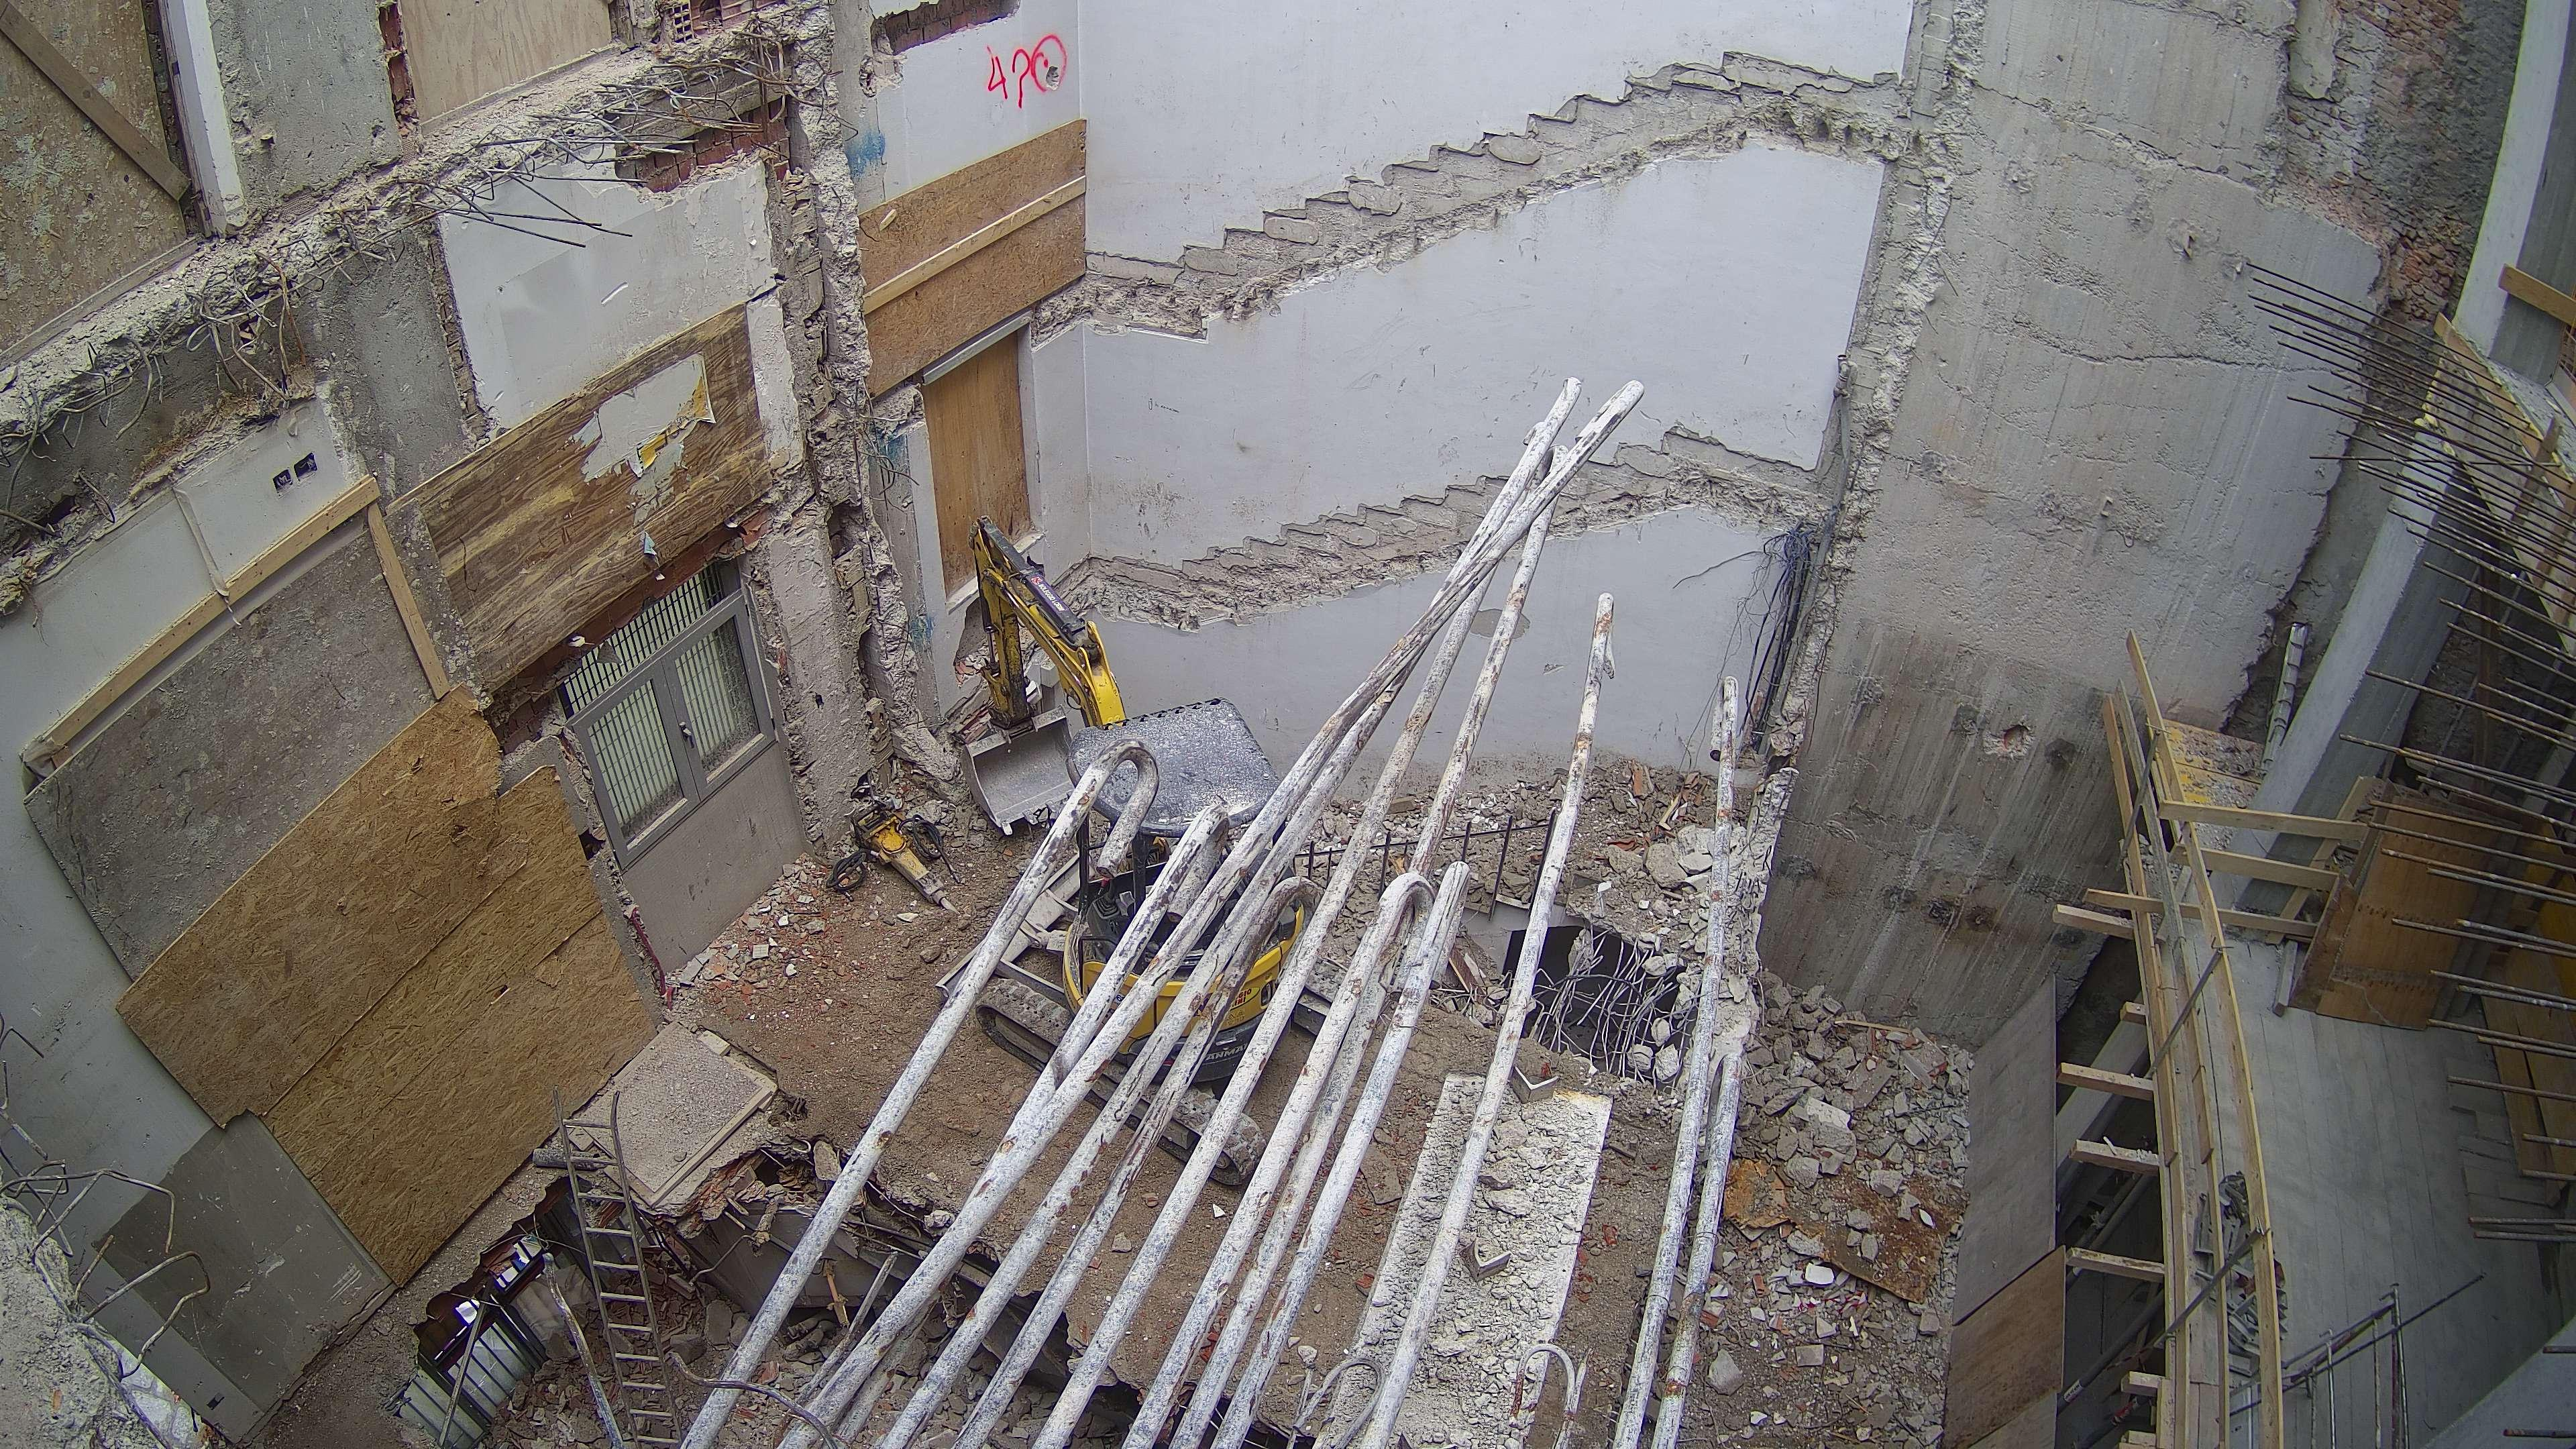excavator: (934, 515, 1345, 1184)
